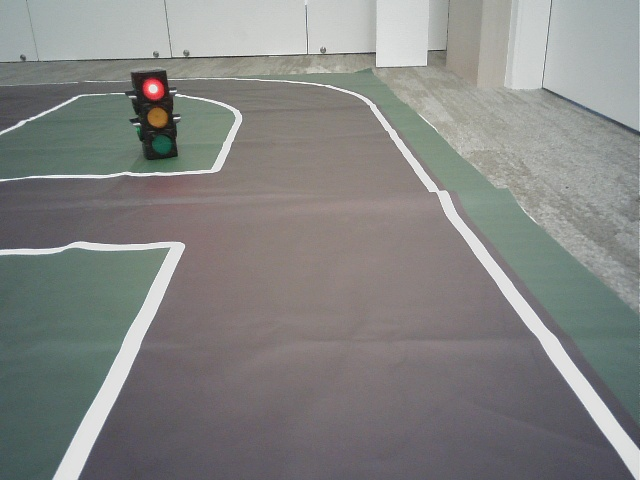red: (139, 73, 176, 155)
